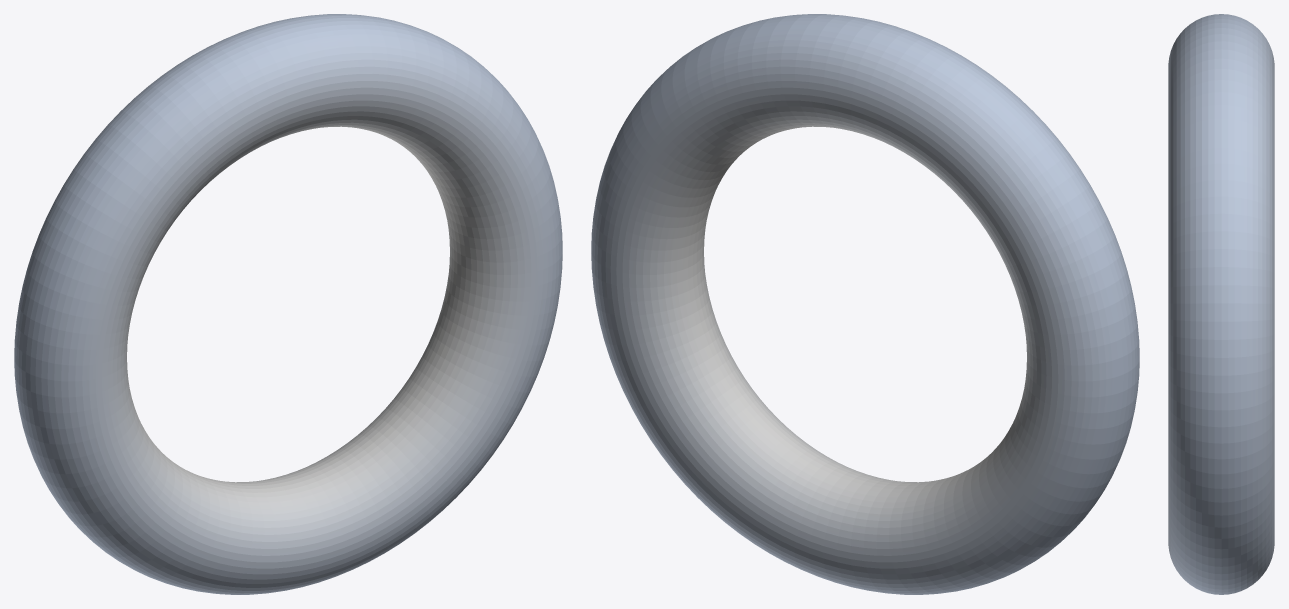
The picture shows the model from 3 angles, left to right: view 1: azimuth 30°, elevation 25°; view 2: azimuth 150°, elevation 25°; view 3: azimuth 270°, elevation 25°; orthographic projection. The views are drawn at different scales.
Parts seen in each view (by area): view 1: world; view 2: world; view 3: world.
Boxes of the visible parts, x1,y1,x2,y2 form: world: (14,14,562,594); world: (591,14,1139,594); world: (1168,14,1274,594).
Size of the model in its own units: 26.93 by 26.93 by 4.92.
